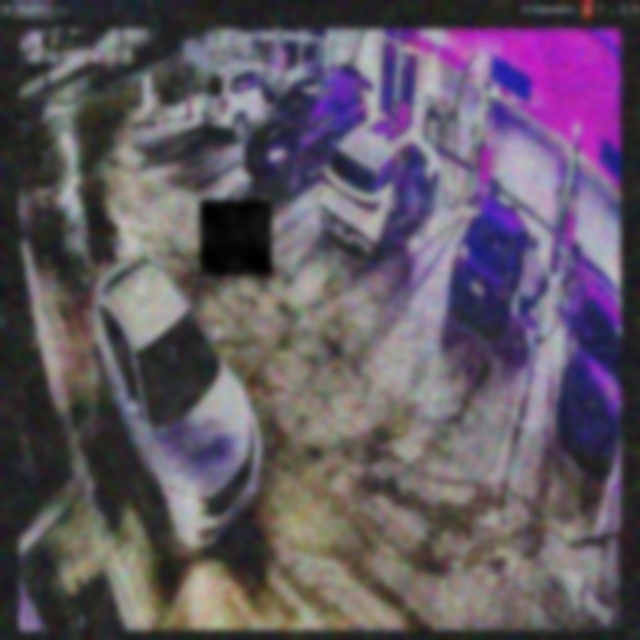Car: (88, 253, 262, 552), (319, 120, 440, 262), (246, 67, 368, 193), (449, 197, 529, 342), (202, 62, 297, 138)
